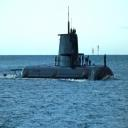submarine: (12, 6, 126, 82)
